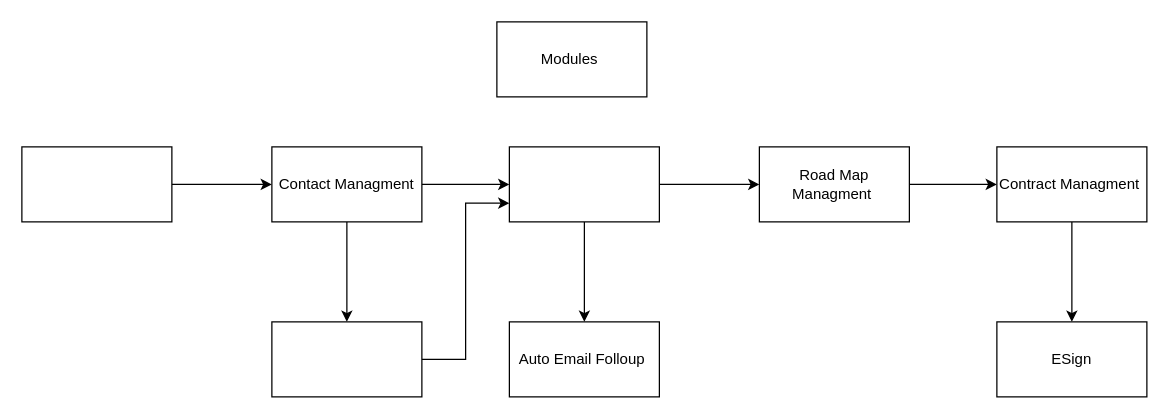
This 1169x419 diagram has some shape labels left out. The centre of each missing label's shape, as x and y in pixels:
Deal Manament: pixel 583 184
Organization Managment: pixel 346 359
User Managment: pixel 96 184
